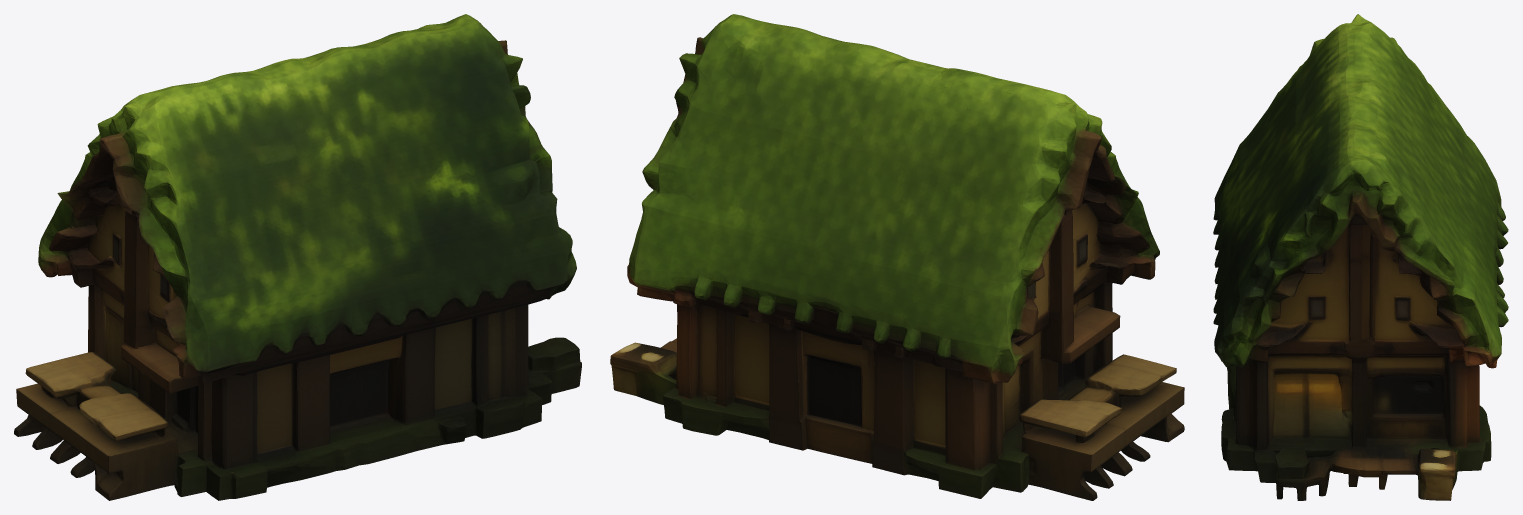
Rendered from home_minecraft.glb.
3 renders of one model, left to right at view 1: azimuth 30°, elevation 25°; view 2: azimuth 150°, elevation 25°; view 3: azimuth 270°, elevation 25°, orthographic. The views are drawn at different scales.
Visible parts, largest first — view 1: world; view 2: world; view 3: world.
Boxes of the visible parts, x1,y1,x2,y2 form: world: (14, 14, 581, 500); world: (610, 14, 1184, 500); world: (1213, 14, 1508, 500).
Size of the model in its own units: 0.997 by 0.7073 by 0.6022.
1 material, 1 textured.
